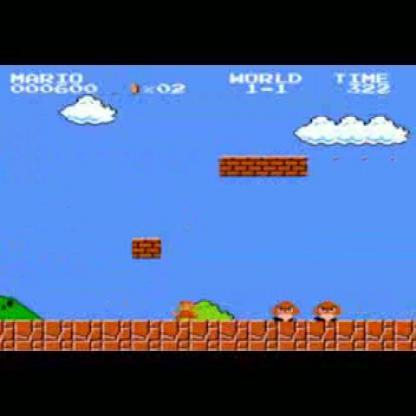Goomba: (269, 295, 300, 323), (315, 298, 343, 320)
